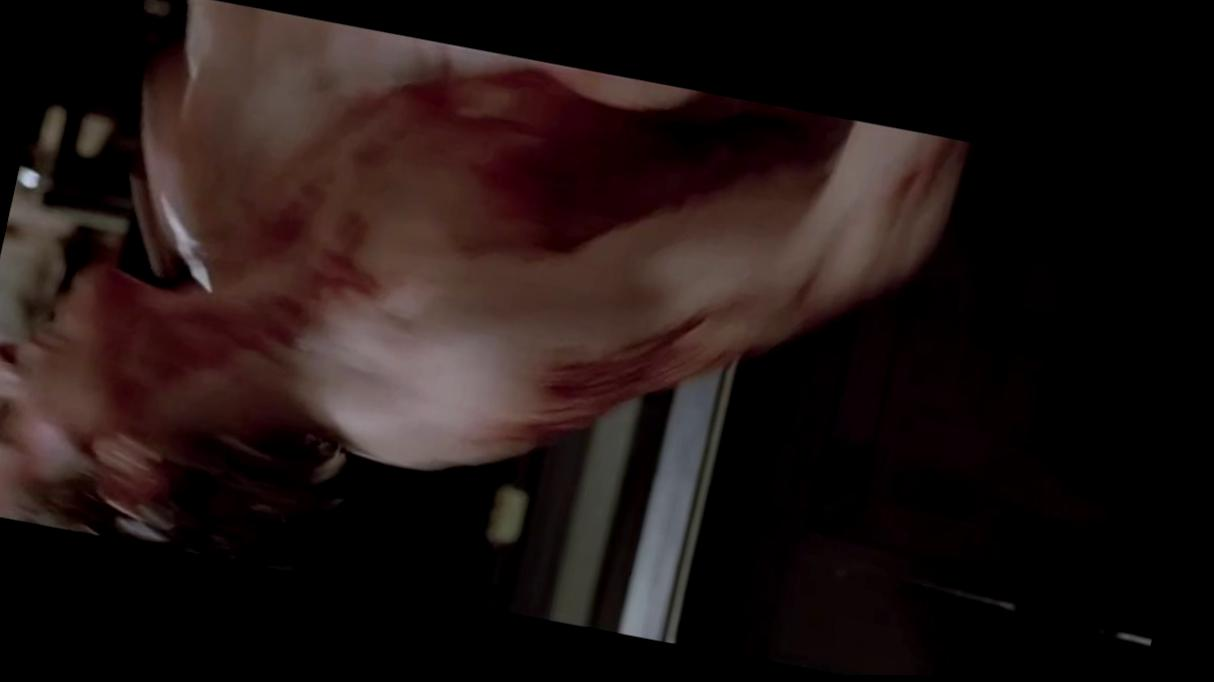Fire: (427, 69, 849, 256), (224, 82, 448, 305), (38, 267, 316, 442), (793, 124, 969, 328), (522, 312, 750, 443)
